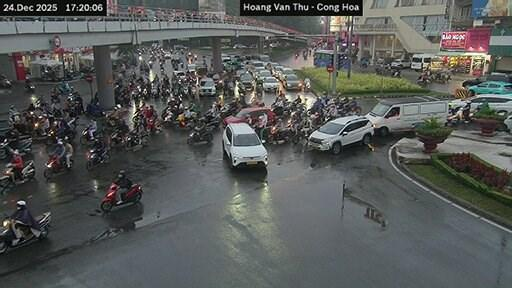motorbike: (0, 211, 50, 252), (99, 183, 141, 211), (0, 161, 35, 188), (42, 156, 67, 178), (86, 148, 108, 170), (188, 126, 211, 144), (266, 126, 288, 143), (291, 125, 310, 144), (125, 133, 147, 149), (45, 126, 62, 144), (108, 129, 124, 148), (83, 103, 103, 116), (147, 117, 162, 133), (16, 139, 32, 154), (80, 126, 92, 144), (0, 139, 12, 157), (57, 81, 71, 94), (62, 126, 74, 139), (0, 75, 10, 88), (25, 82, 34, 91), (390, 68, 399, 77), (93, 130, 102, 136), (70, 158, 73, 166)
